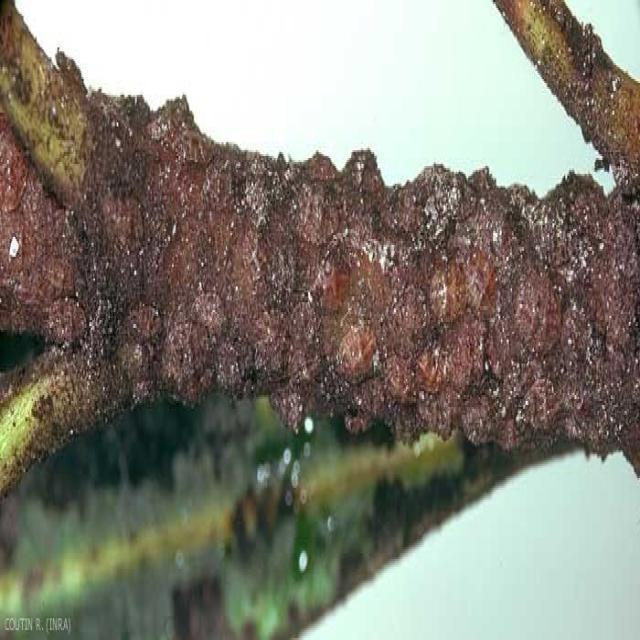BlackScale: (81, 91, 639, 472), (0, 106, 86, 342)
